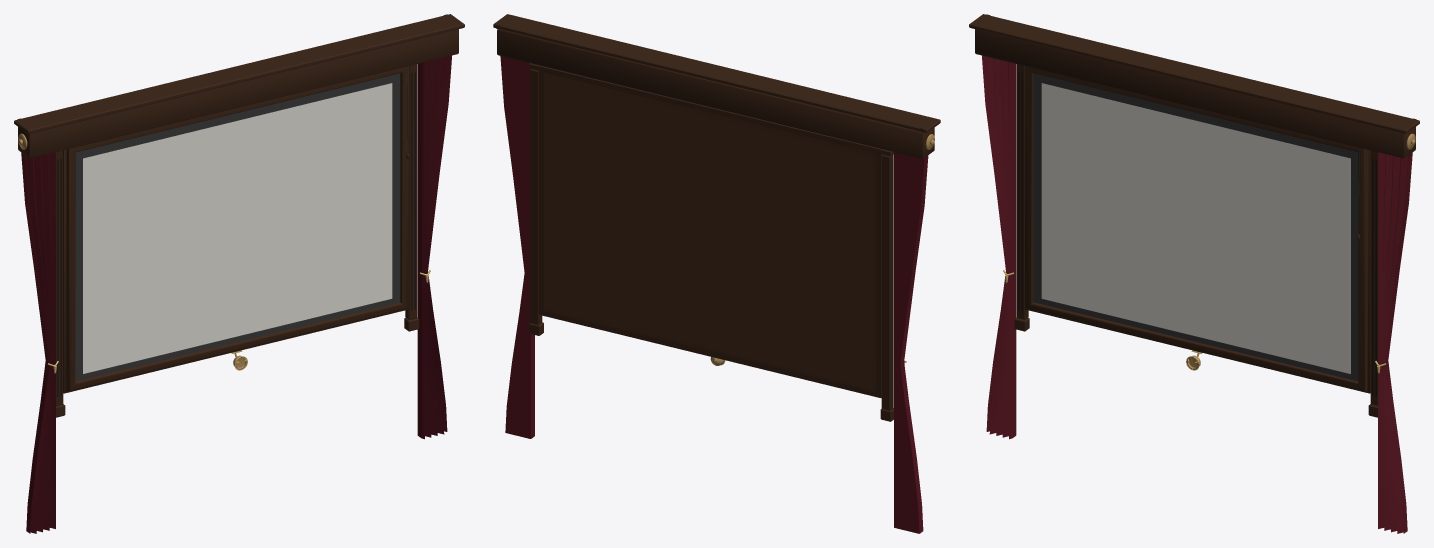
The model's file is projection_screen.glb.
The picture shows the model from 3 angles, left to right: view 1: azimuth 30°, elevation 25°; view 2: azimuth 150°, elevation 25°; view 3: azimuth 330°, elevation 25°; orthographic projection.
Parts seen in each view (by area): view 1: screen_surface, screen_frame; view 2: screen_frame; view 3: screen_surface, screen_frame.
Boxes of the visible parts, left/top/right/bottom form: screen_surface: left=83, top=83, right=392, bottom=373; screen_frame: left=14, top=14, right=464, bottom=533; screen_frame: left=493, top=14, right=940, bottom=533; screen_surface: left=1041, top=83, right=1350, bottom=373; screen_frame: left=969, top=14, right=1419, bottom=533.
Size of the model in its own units: 3.4 by 3.05 by 0.193.
